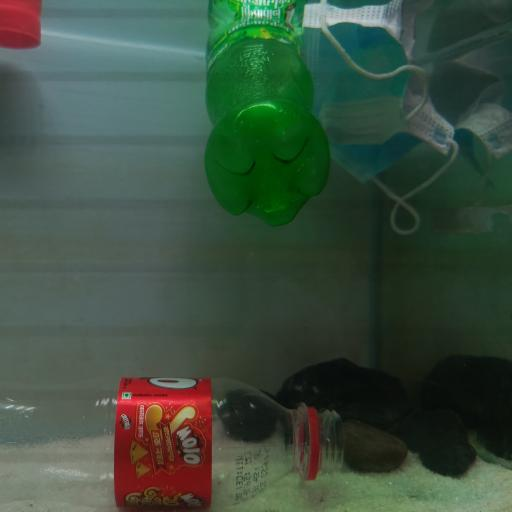bottle_cap: (0, 6, 43, 49)
mask: (303, 22, 466, 208)
plastic_bottle: (1, 378, 344, 512), (204, 20, 330, 227)
